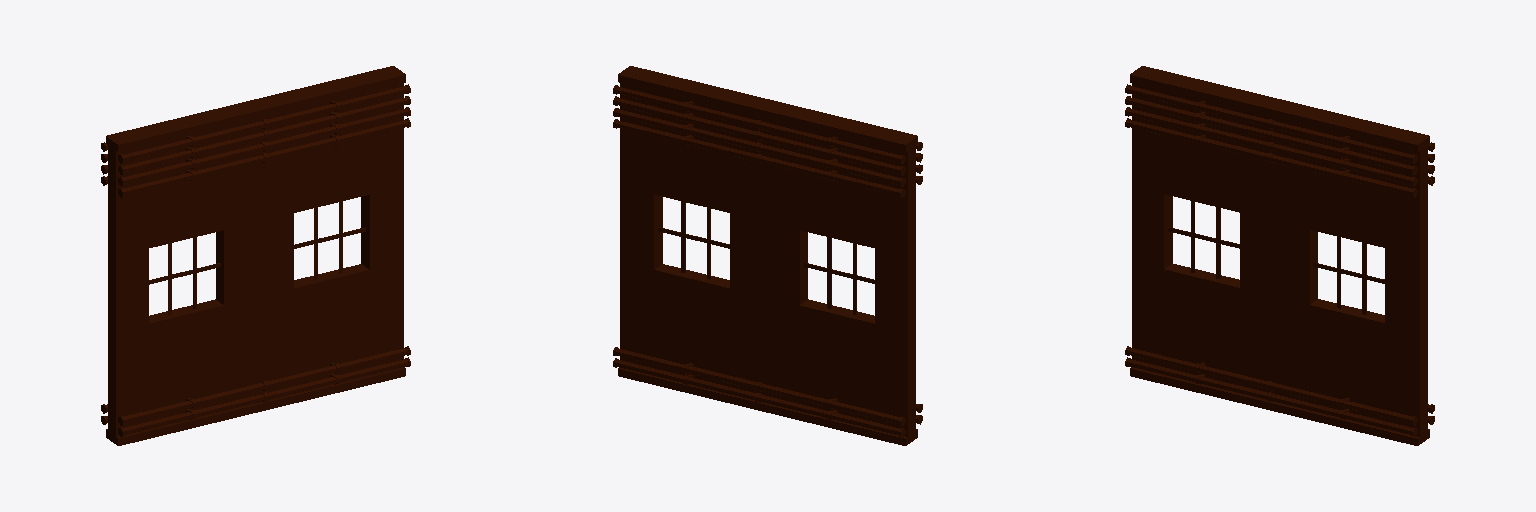
File: 8x8_wall_2_window_noglass_pipe.obj
The picture shows the model from 3 angles: view 1: azimuth 30°, elevation 25°; view 2: azimuth 150°, elevation 25°; view 3: azimuth 330°, elevation 25°; orthographic projection.
Parts seen in each view (by area): view 1: wall, pipe; view 2: wall, pipe; view 3: wall, pipe.
Boxes of the visible parts, box(x1,y1,x2,y2) form: wall: box(106, 66, 405, 445); pipe: box(101, 84, 410, 436); wall: box(618, 66, 917, 445); pipe: box(613, 85, 922, 437); wall: box(1130, 66, 1429, 445); pipe: box(1125, 84, 1434, 436).
Size of the model in its own units: 8 by 8 by 1.05.